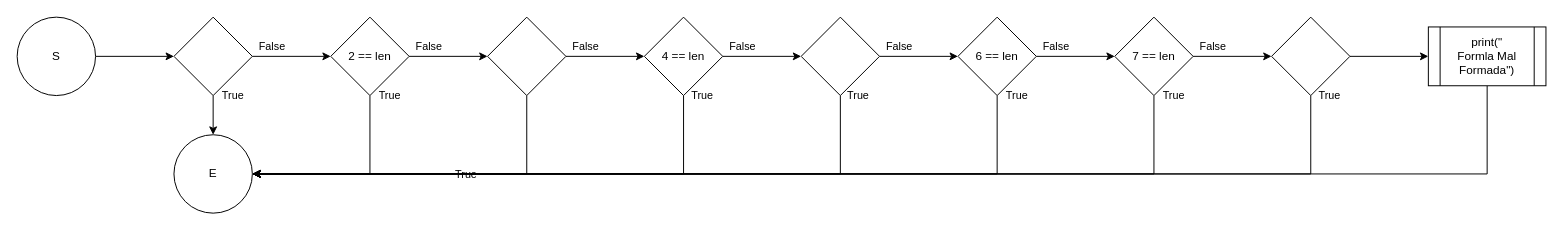
Some shapes in this 1563 by 230 pixel diagram are drawn without their labels. The box of each missing label's shape, as (x1, y1, x2, y2) in pixels:
1 == len: (173, 16, 252, 96)
3 == len: (487, 16, 566, 96)
5 == len: (800, 16, 880, 96)
8 == len: (1271, 16, 1350, 96)
